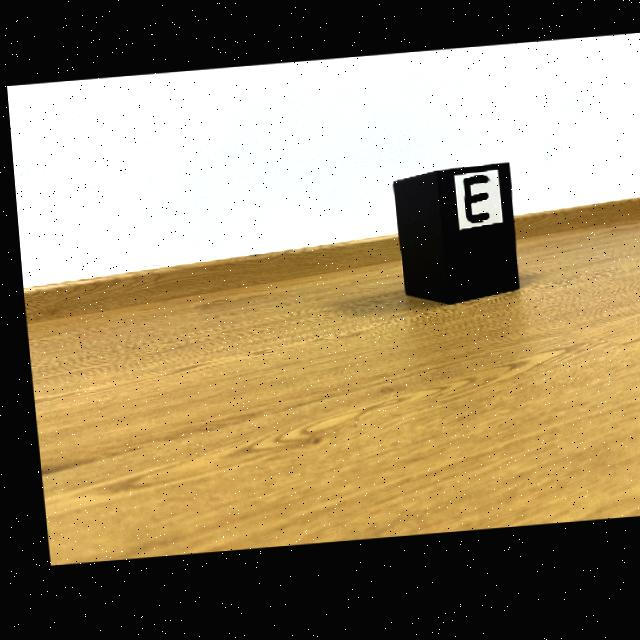E: (460, 182, 486, 228)
